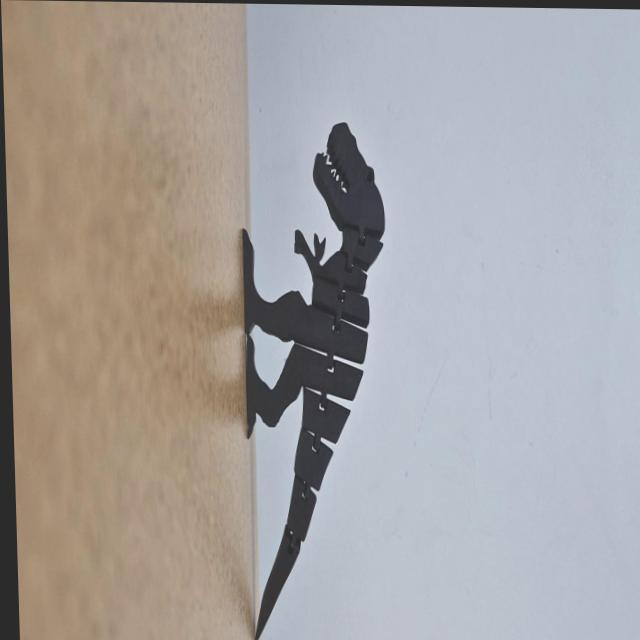dino: (236, 118, 398, 640)
